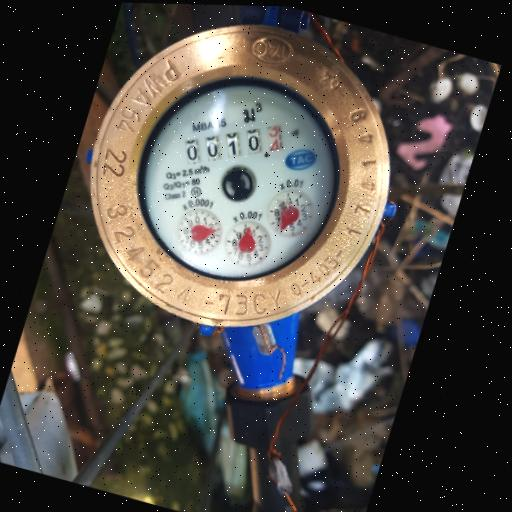0: (178, 136, 208, 168), (239, 125, 268, 158), (198, 133, 227, 165)
1: (218, 129, 248, 162)
3: (260, 121, 290, 154)
border_water_meter_number: (171, 96, 296, 191)
